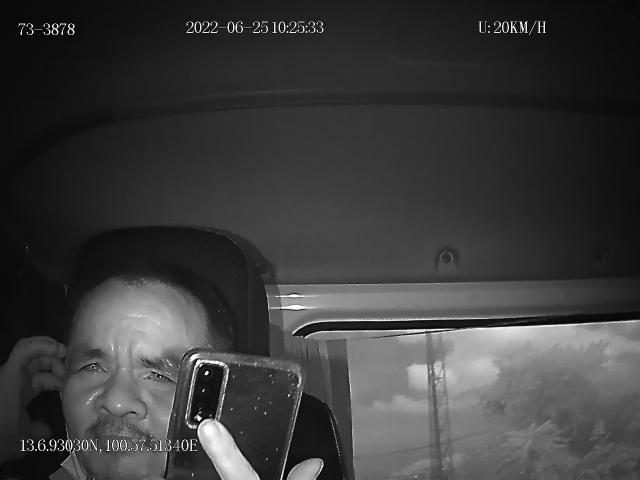PhoneUse: (165, 348, 305, 480)
SafeDriving: (71, 350, 114, 382), (134, 358, 176, 389)
